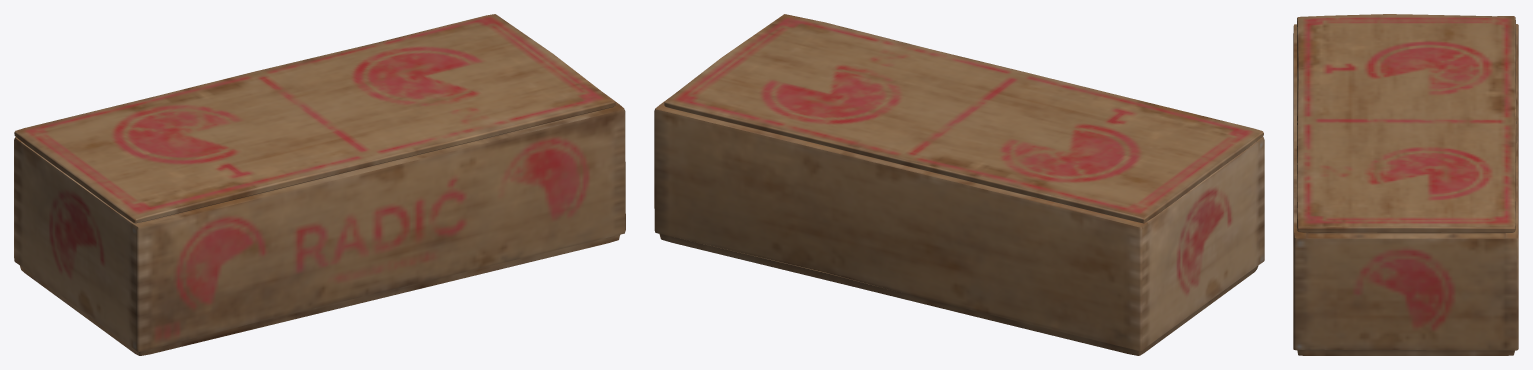
The model's file is CheeseBox_01a_mini.gltf.
3 renders of one model, left to right at view 1: azimuth 30°, elevation 25°; view 2: azimuth 150°, elevation 25°; view 3: azimuth 270°, elevation 25°, orthographic. The views are drawn at different scales.
Parts seen in each view (by area): view 1: Base_low, Lid_low; view 2: Base_low, Lid_low; view 3: Lid_low, Base_low.
Boxes of the visible parts, x1,y1,x2,y2 form: Base_low: (14,93,625,355); Lid_low: (14,14,615,223); Base_low: (654,97,1264,355); Lid_low: (664,14,1263,223); Lid_low: (1297,14,1516,232); Base_low: (1293,24,1518,355).
Size of the model in its own units: 2.41 by 0.6667 by 1.06.
Materials: 1 (1 with a texture image).
